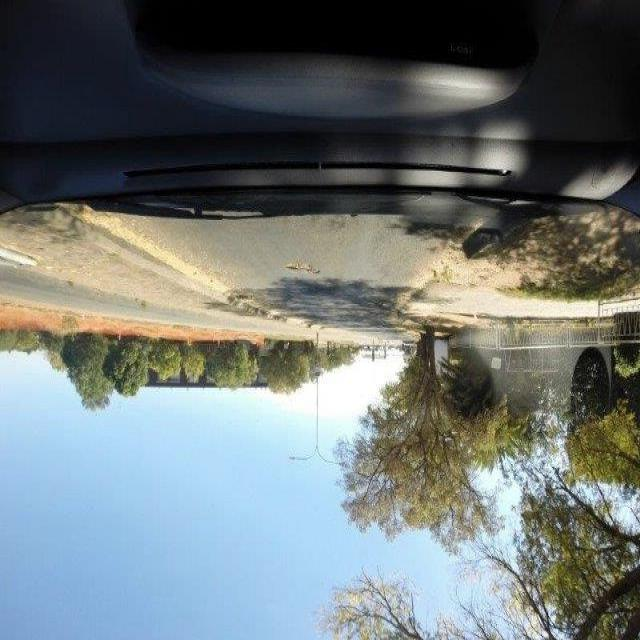lubang: (279, 253, 328, 280)
